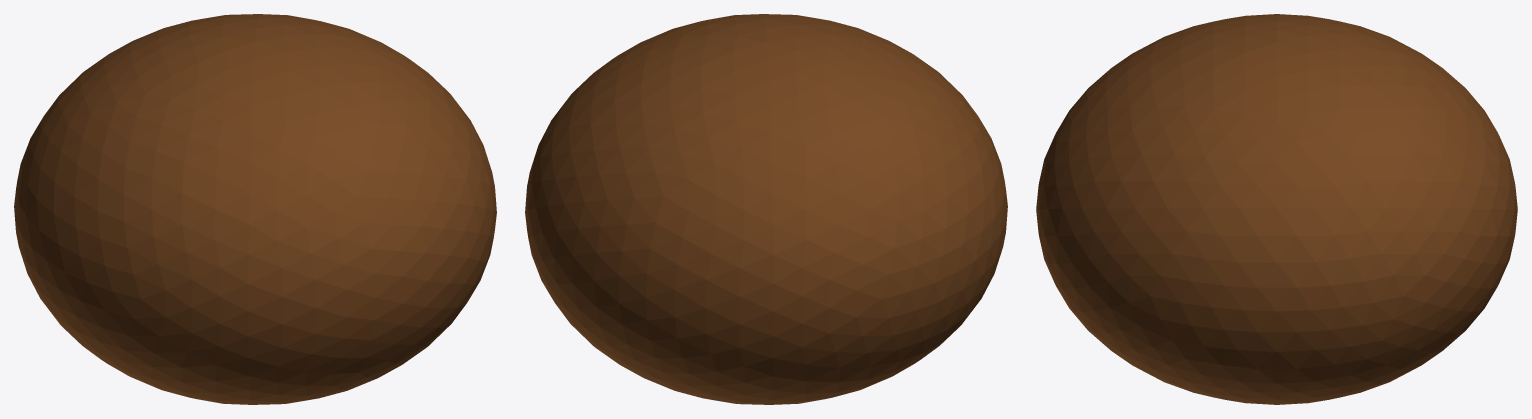
File: ear_left.obj
3 views of the same model, side by side, from view 1: azimuth 30°, elevation 25°; view 2: azimuth 150°, elevation 25°; view 3: azimuth 270°, elevation 25° (orthographic).
Bounding box in the file's own units: 0.068 × 0.052 × 0.068.
